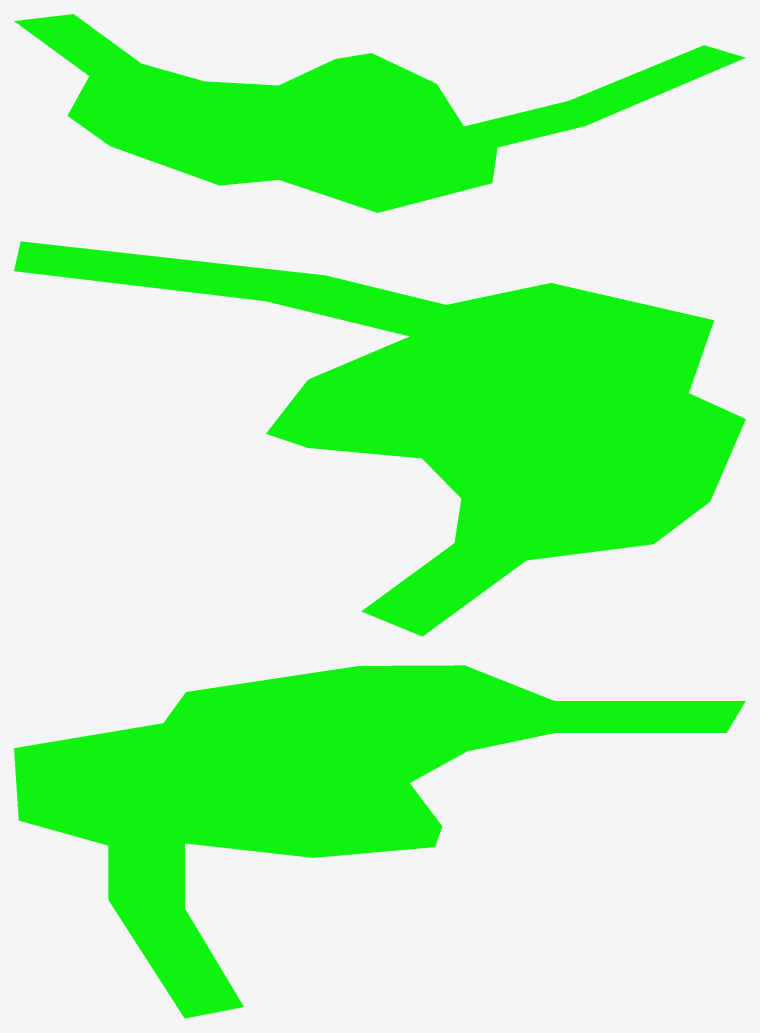
File: s01a_lb3-floor.glb
The picture shows the model from 3 angles, top to bottom: view 1: azimuth 30°, elevation 25°; view 2: azimuth 150°, elevation 25°; view 3: azimuth 270°, elevation 25°; orthographic projection. The views are drawn at different scales.
Visible parts, largest first — view 1: collision_floor-colonly; view 2: collision_floor-colonly; view 3: collision_floor-colonly.
Boxes of the visible parts, x1,y1,x2,y2 form: collision_floor-colonly: (14, 14, 745, 212); collision_floor-colonly: (14, 241, 745, 636); collision_floor-colonly: (14, 665, 745, 1018).
Bounding box in the file's own units: 65.56 × 0 × 57.44.
